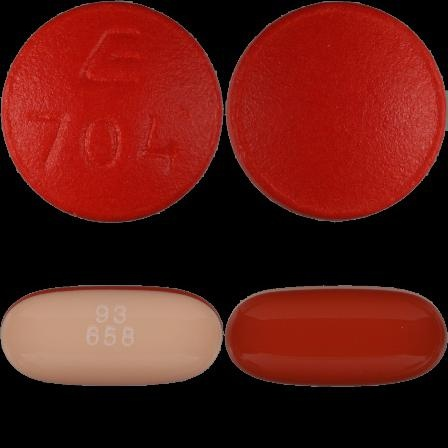54868-4576: (0, 0, 224, 224)
